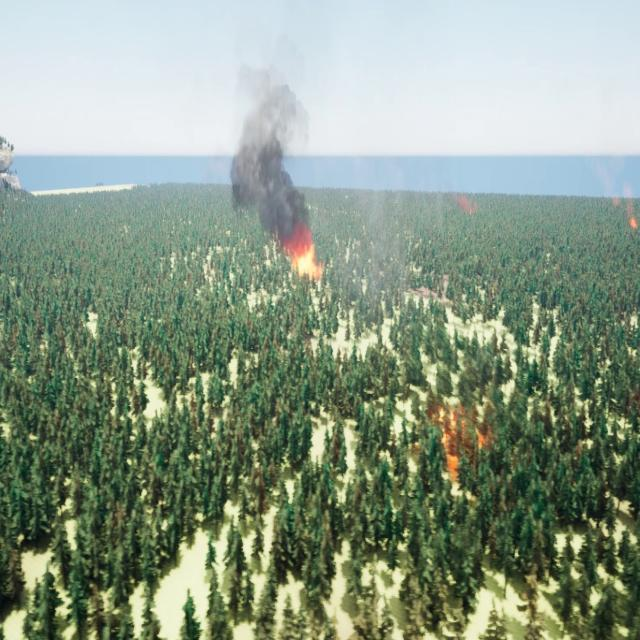fire: (428, 390, 489, 480), (284, 228, 321, 272)
smoke: (225, 56, 319, 232), (339, 138, 419, 317), (601, 160, 638, 229), (456, 184, 480, 214)
